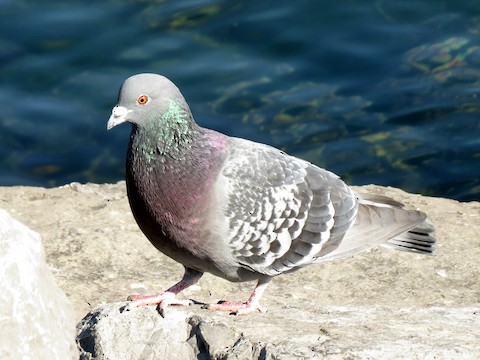pigeon: (102, 67, 440, 318)
